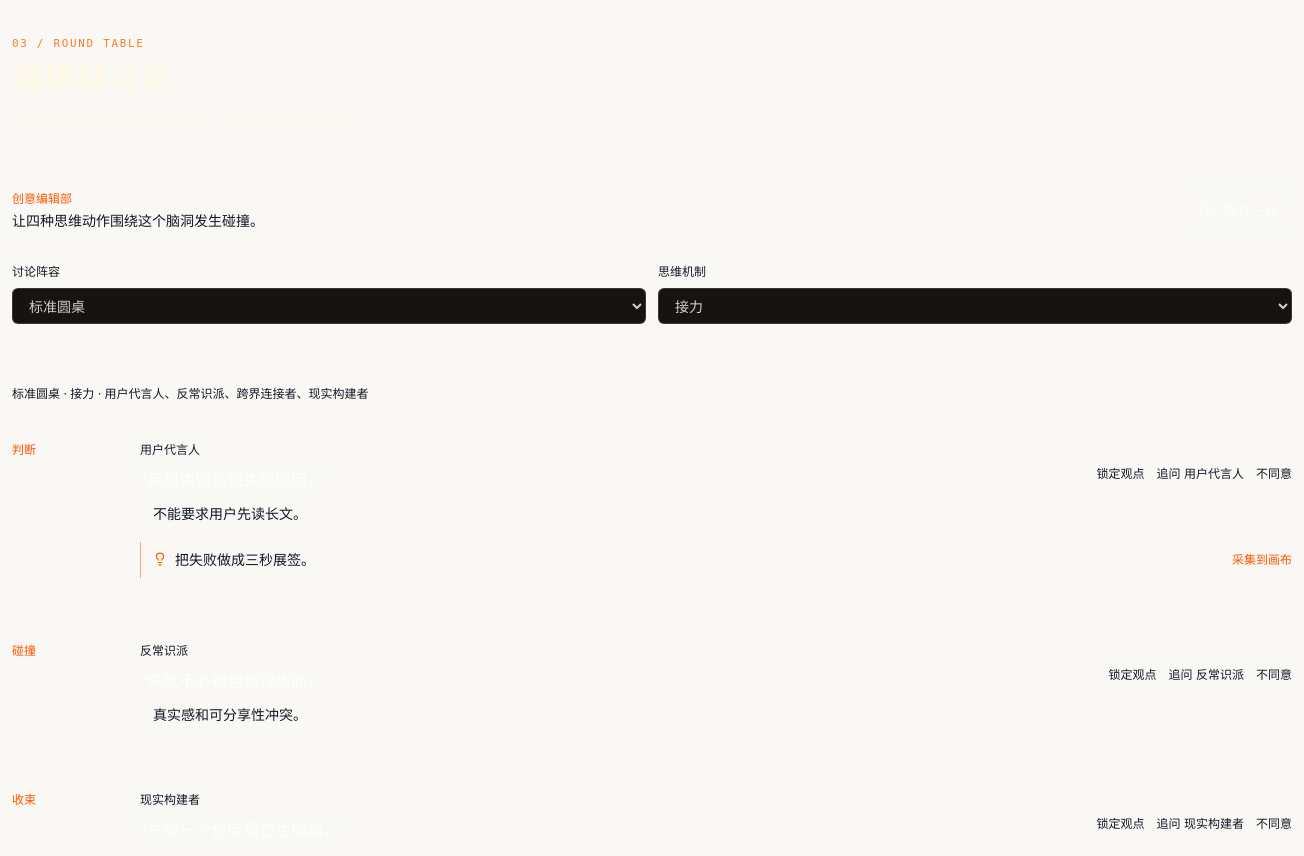
Test case: idea discussion panel › locks one viewpoint and opens a focused response from the lock
What coordinates should you click on to do the following:
click the button "锁定观点" in the row of "我想快速看懂失败原因。"
I would click on:
 (1121, 474)
Its box is [1097,466,1145,482].
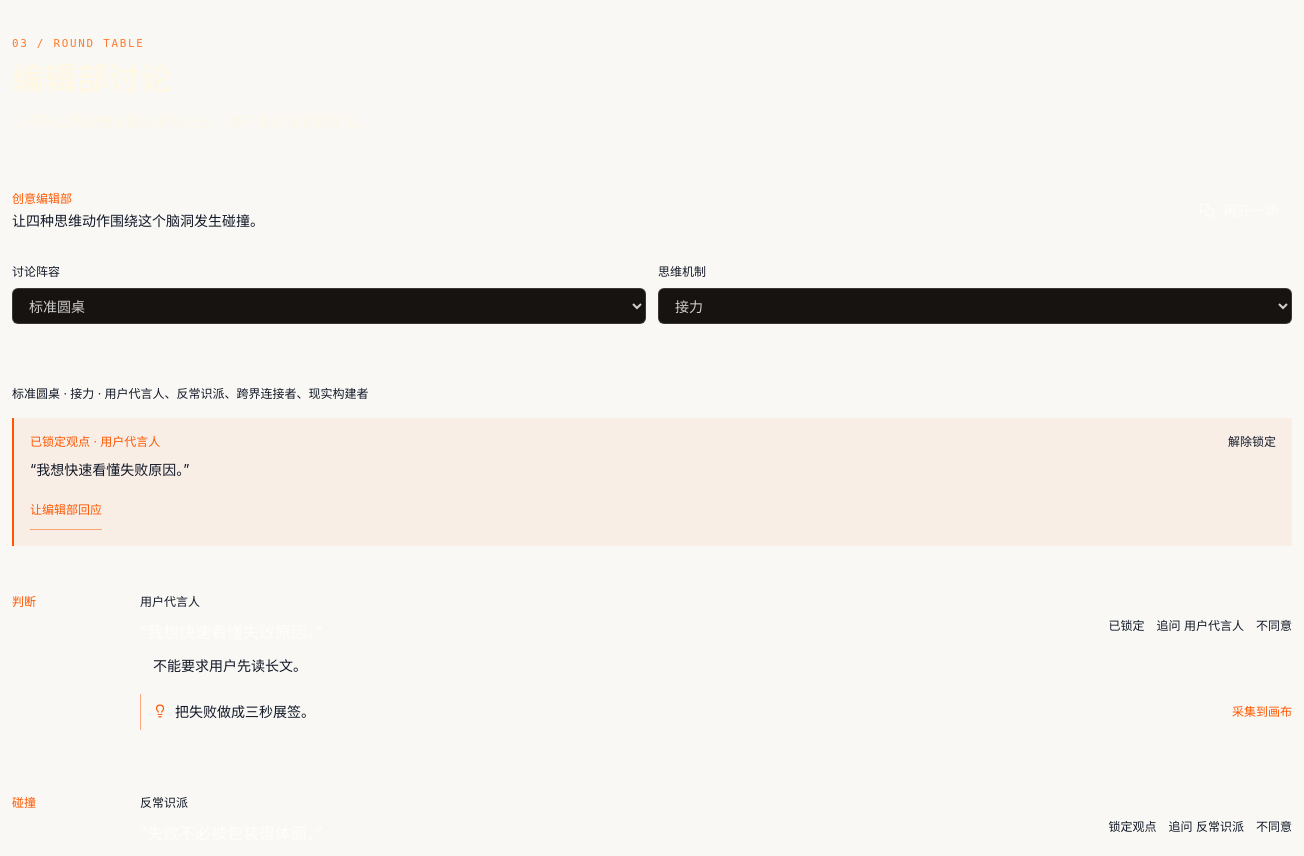
Expected: the element "已锁定观点" shows "我想快速看懂失败原因", [36,462,183,478]
Expected: the button "解除锁定" is shown, [1228,434,1276,450]
What coordinates should you click on to do the following:
click the button "让编辑部回应"
I would click on:
 (66, 512)
Its box is [30,494,102,530].
(page scrolled)
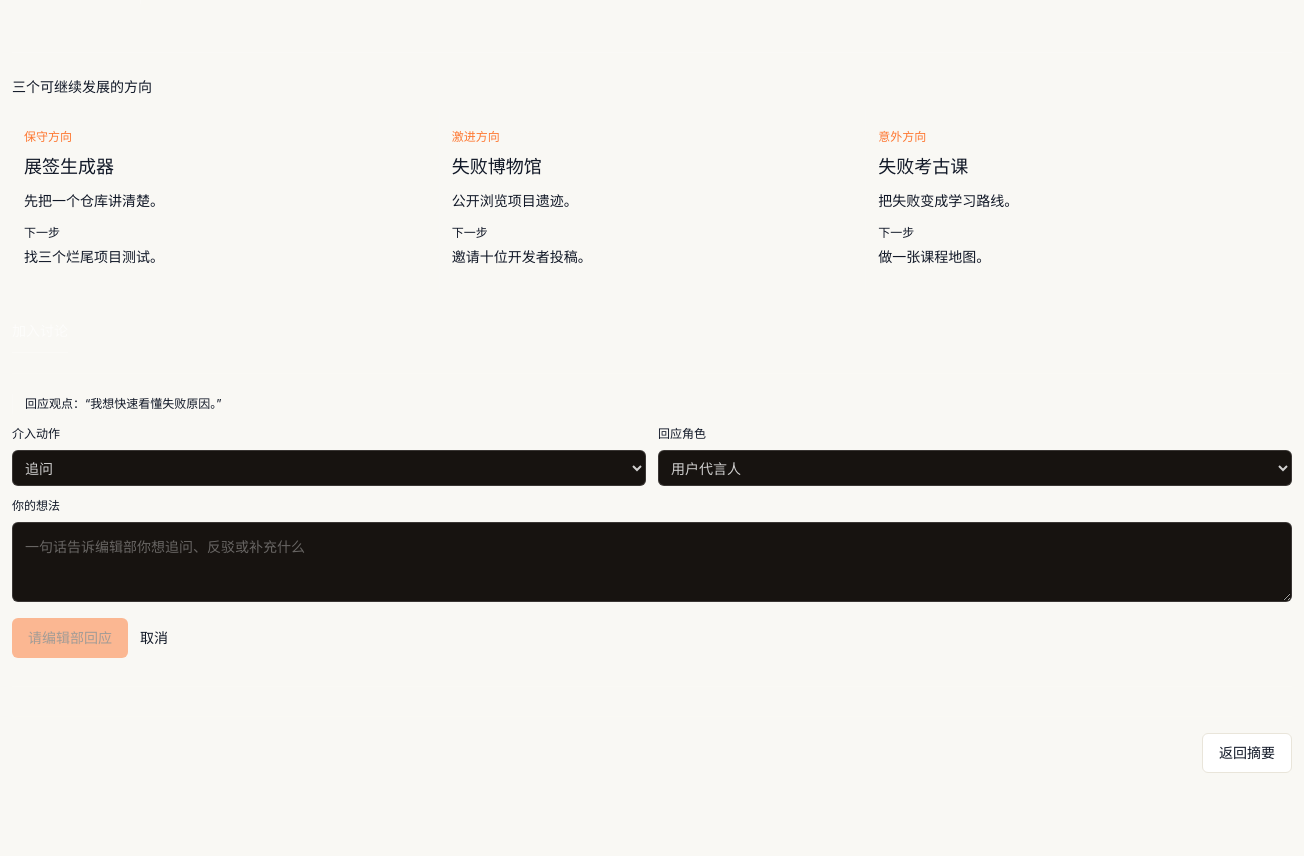
Expected: the form named "加入讨论" shows "回应观点：“我想快速看懂失败原因。”", [12,374,1292,658]
